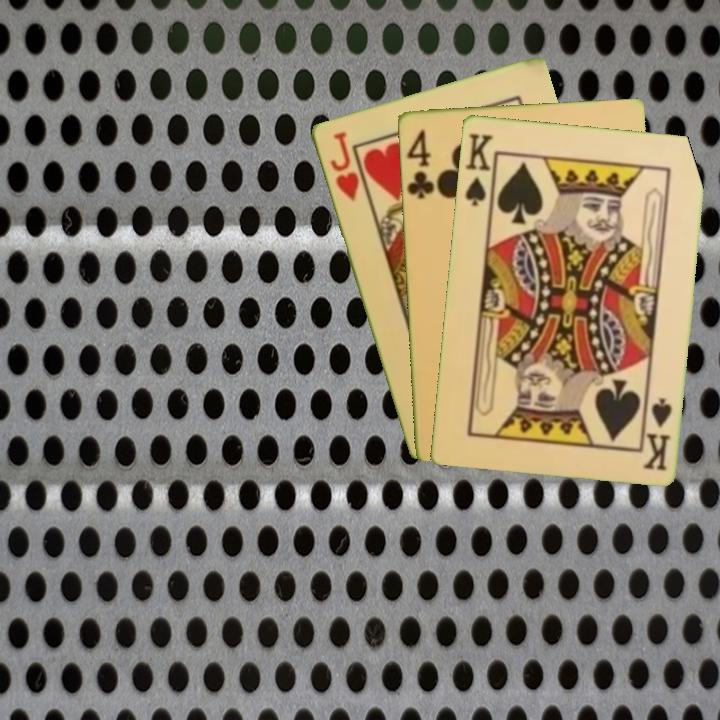4c: (403, 125, 437, 202)
Jh: (326, 127, 362, 204)
Ks: (461, 129, 498, 211), (640, 394, 675, 473)
